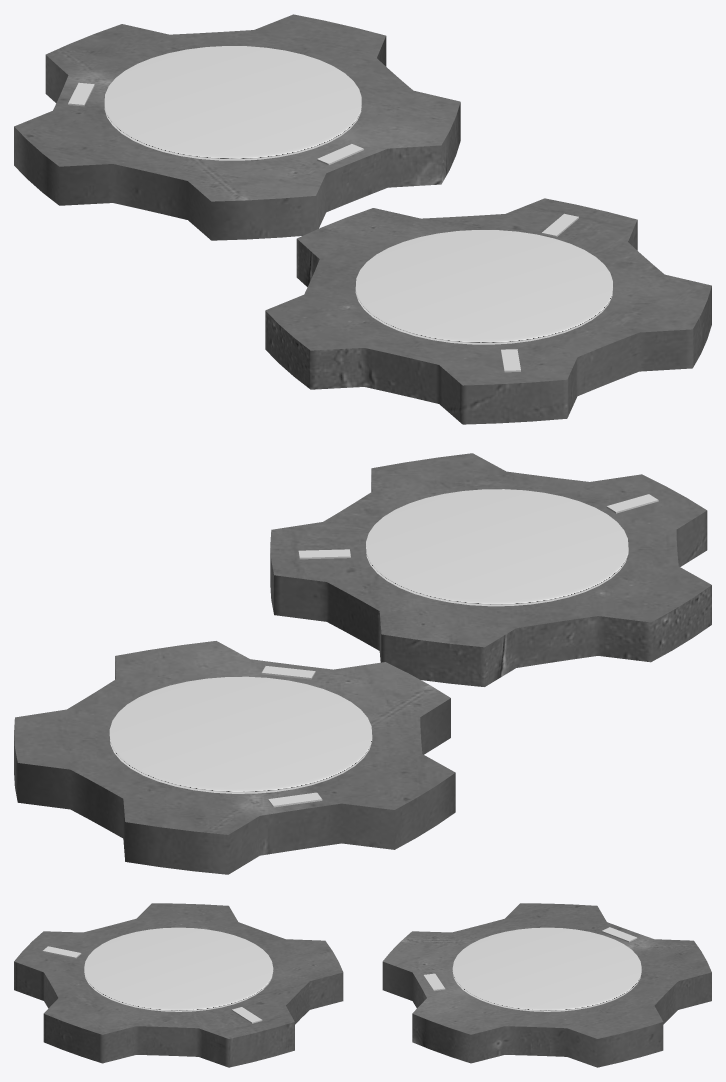
The model's file is шестеренка.fbx.
The picture shows the model from 3 angles, top to bottom: view 1: azimuth 30°, elevation 25°; view 2: azimuth 150°, elevation 25°; view 3: azimuth 270°, elevation 25°; orthographic projection. The views are drawn at different scales.
Visible parts, largest first — view 1: Cylinder, Cylinder.002, Cylinder.003, Cylinder.001; view 2: Cylinder.002, Cylinder, Cylinder.001, Cylinder.003; view 3: Cylinder, Cylinder.002, Cylinder.001, Cylinder.003.
Boxes of the visible parts, x1,y1,x2,y2 form: Cylinder: (265, 198, 711, 424); Cylinder.002: (14, 14, 460, 240); Cylinder.003: (104, 46, 361, 160); Cylinder.001: (355, 230, 612, 344); Cylinder.002: (14, 641, 455, 874); Cylinder: (270, 453, 711, 686); Cylinder.001: (366, 489, 628, 606); Cylinder.003: (109, 676, 372, 793); Cylinder: (14, 903, 343, 1067); Cylinder.002: (382, 903, 711, 1067); Cylinder.001: (84, 927, 273, 1011); Cylinder.003: (452, 927, 641, 1011).
Bounding box in the file's own units: 227 × 36.29 × 493.
